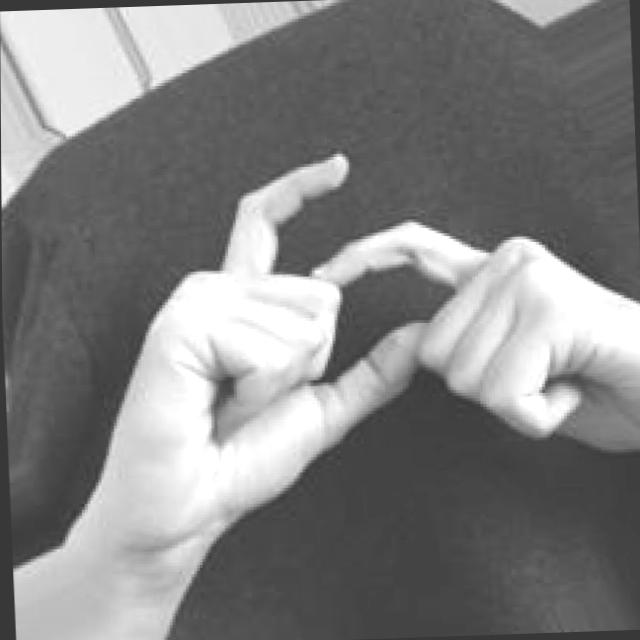G: (63, 140, 640, 640)
